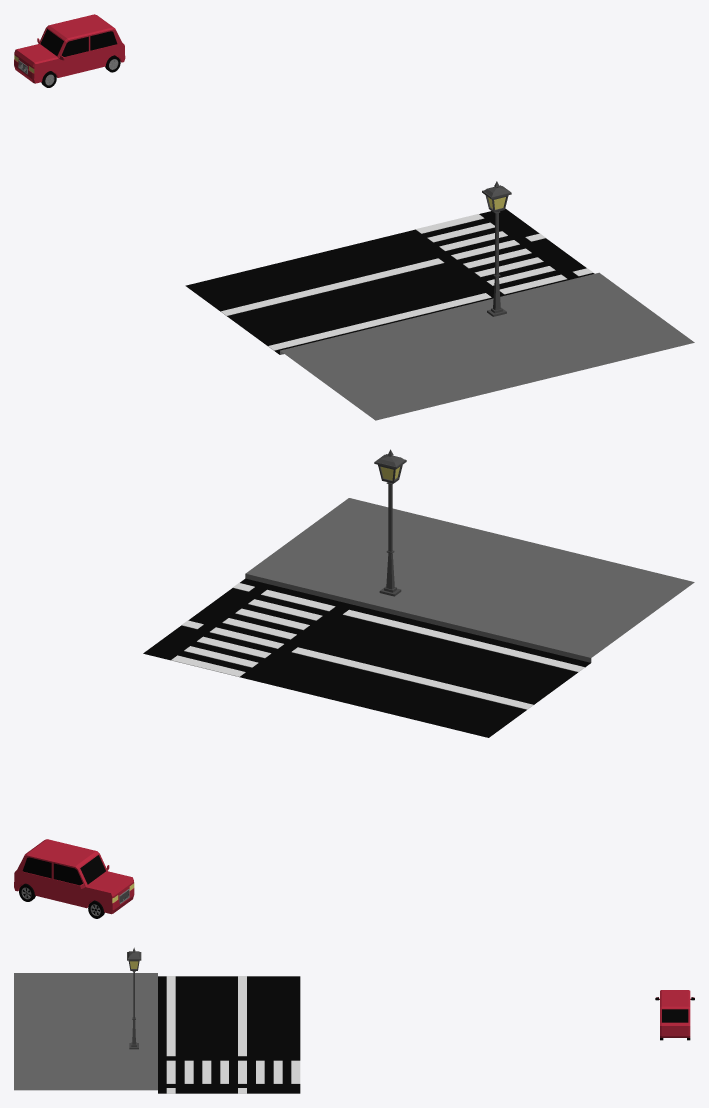
3 views of the same model, one above another, from view 1: azimuth 30°, elevation 25°; view 2: azimuth 150°, elevation 25°; view 3: azimuth 270°, elevation 25° (orthographic). The views are drawn at different scales.
Visible parts, largest first — view 1: Plane, Circle.001, Cube; view 2: Plane, Circle.001, Cube; view 3: Plane, Circle.001, Cube.
Boxes of the visible parts, x1=… form: Plane: x1=185, y1=208, x2=694, y2=420; Circle.001: x1=14, y1=14, x2=125, y2=87; Cube: x1=482, y1=181, x2=511, y2=316; Plane: x1=143, y1=498, x2=694, y2=737; Circle.001: x1=14, y1=839, x2=134, y2=918; Cube: x1=374, y1=449, x2=406, y2=596; Plane: x1=14, y1=973, x2=300, y2=1093; Circle.001: x1=655, y1=990, x2=694, y2=1040; Cube: x1=127, y1=947, x2=141, y2=1049.
Size of the model in its own units: 2881 by 1202 by 7073.
